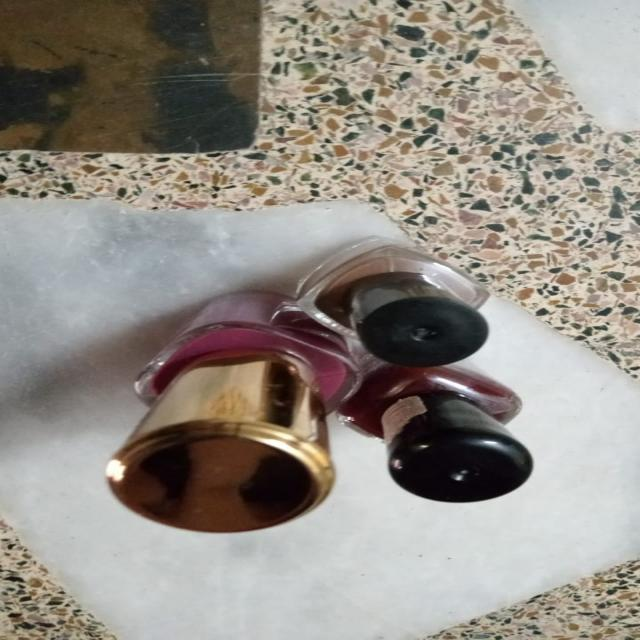nail polish: (100, 238, 364, 546), (301, 229, 522, 375), (340, 366, 549, 509)
